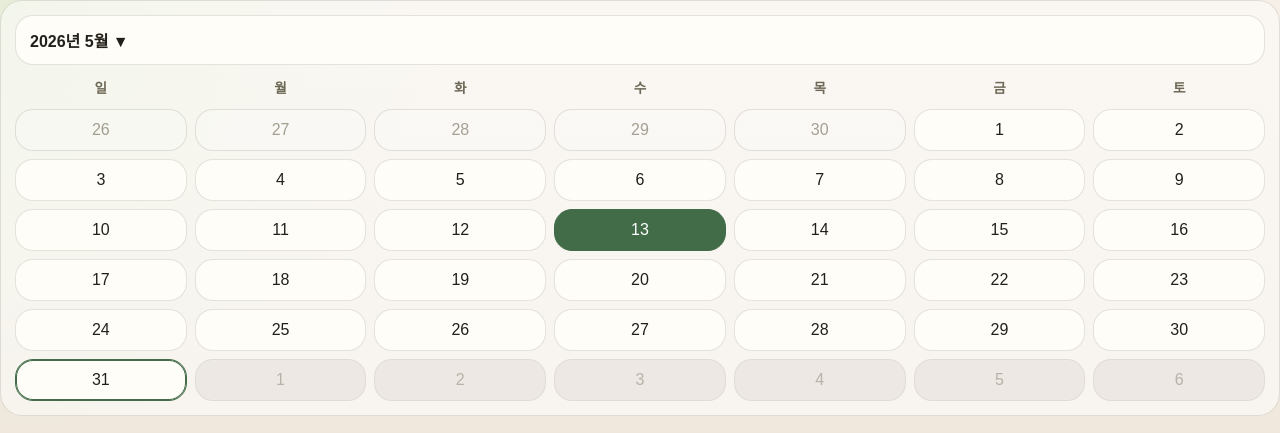
Test: EntryCalendarSheet › 앞달 날짜를 누르면 그 날짜를 선택하고 해당 월로 이동한다
Click the button named "2026-04-30": (820, 130) left=734, top=109, right=906, bottom=151
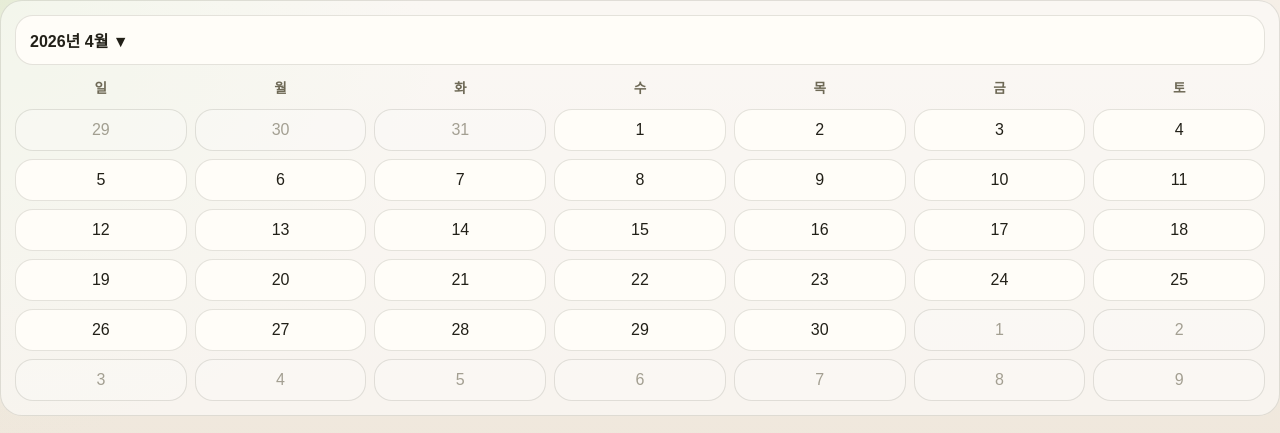
Expected: the button "2026년 4월 ▼" is shown, left=15, top=15, right=1265, bottom=65
